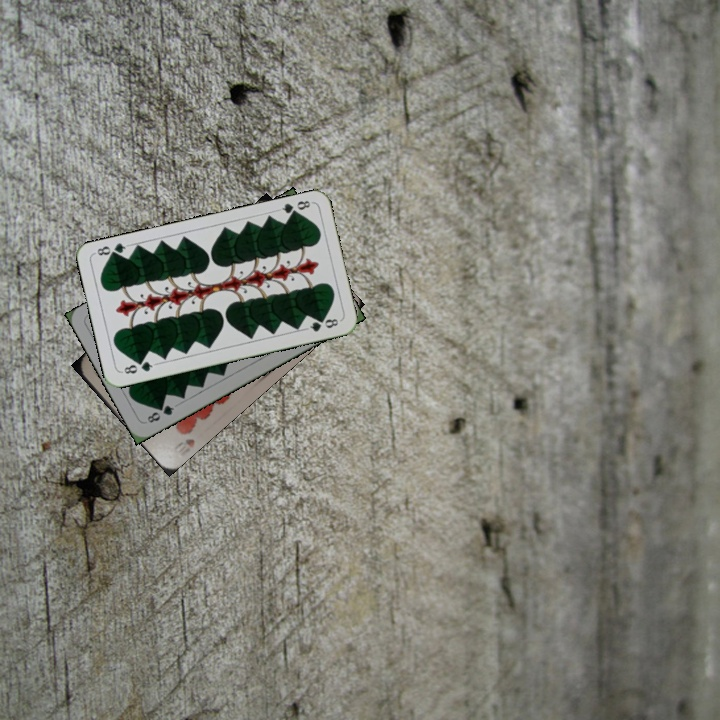G8: (274, 196, 313, 219), (143, 401, 177, 426), (118, 357, 158, 376)
H10: (169, 434, 198, 459)
